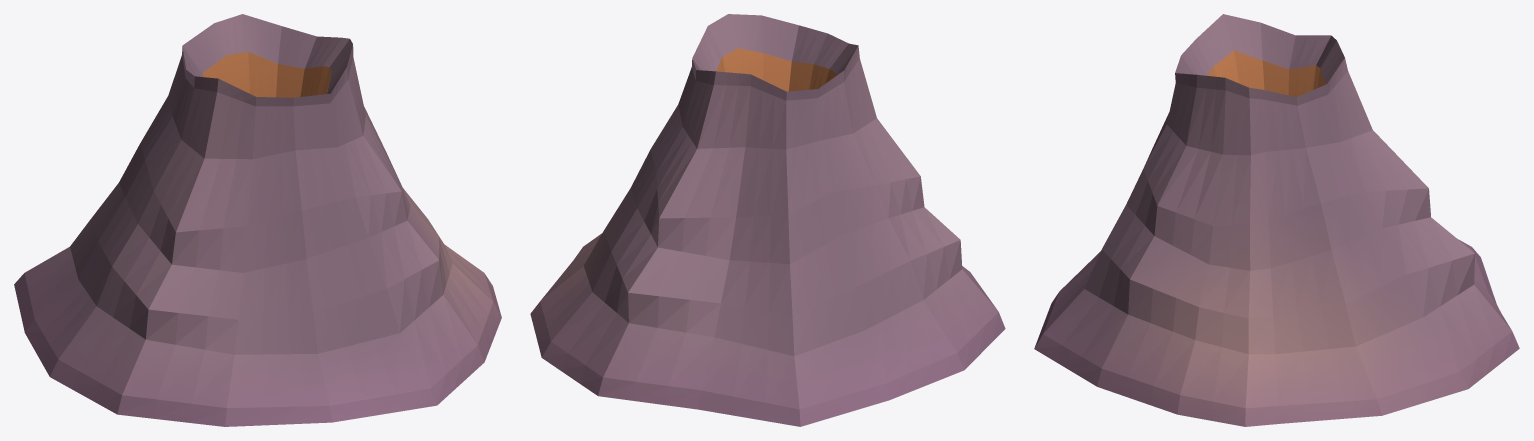
The model's file is Volcano_3.glb.
3 renders of one model, left to right at view 1: azimuth 30°, elevation 25°; view 2: azimuth 150°, elevation 25°; view 3: azimuth 270°, elevation 25°, orthographic. The views are drawn at different scales.
Parts seen in each view (by area): view 1: b612__Volcano_3; view 2: b612__Volcano_3; view 3: b612__Volcano_3.
Boxes of the visible parts, x1,y1,x2,y2 form: b612__Volcano_3: [14, 14, 501, 426]; b612__Volcano_3: [530, 14, 1005, 426]; b612__Volcano_3: [1034, 14, 1519, 426].
Size of the model in its own units: 1.48 by 0.95 by 1.5.
